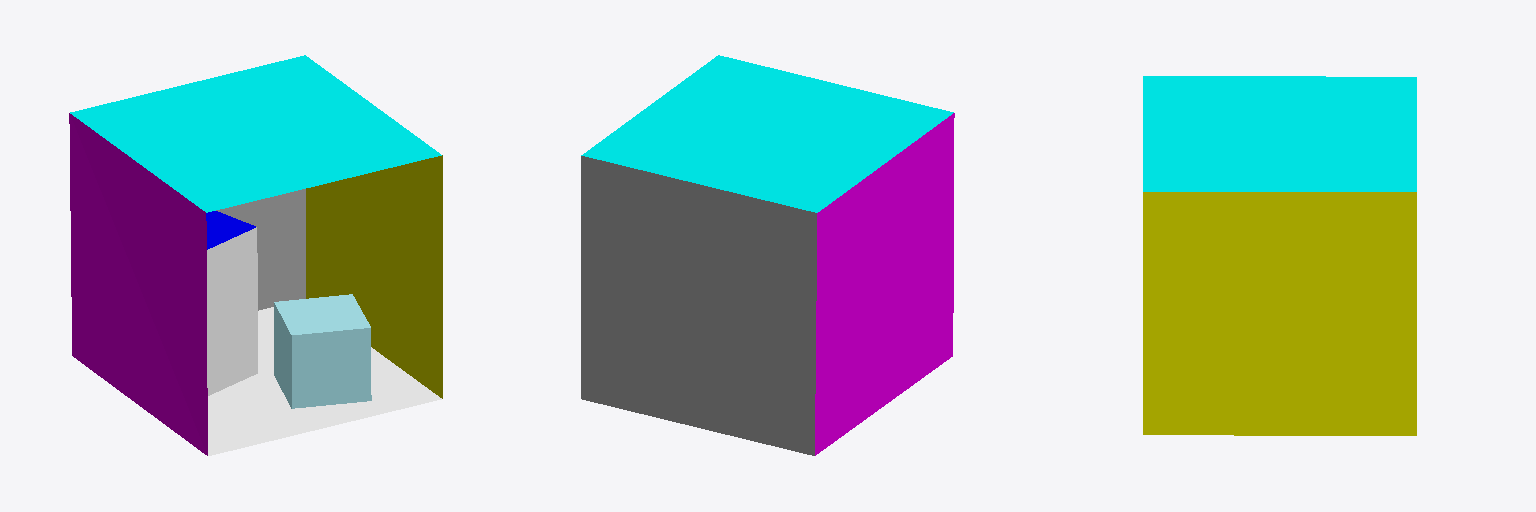
The picture shows the model from 3 angles: view 1: azimuth 30°, elevation 25°; view 2: azimuth 150°, elevation 25°; view 3: azimuth 270°, elevation 25°; orthographic projection.
Parts seen in each view (by area): view 1: left_wall, ceiling, right_wall, floor, short_box, mirror, back_wall, tall_box; view 2: back_wall, left_wall, ceiling; view 3: right_wall, ceiling.
Boxes of the visible parts, <box> form: left_wall: <box>69,113,207,455</box>; ceiling: <box>70,55,441,212</box>; right_wall: <box>306,155,442,398</box>; floor: <box>208,307,441,455</box>; short_box: <box>274,294,371,408</box>; mirror: <box>207,227,257,395</box>; back_wall: <box>216,189,305,310</box>; tall_box: <box>206,211,255,249</box>; back_wall: <box>581,156,816,455</box>; left_wall: <box>815,113,954,455</box>; ceiling: <box>581,55,953,212</box>; right_wall: <box>1143,192,1416,435</box>; ceiling: <box>1143,76,1416,191</box>.
Size of the model in its own units: 5.56 by 5.49 by 5.6.